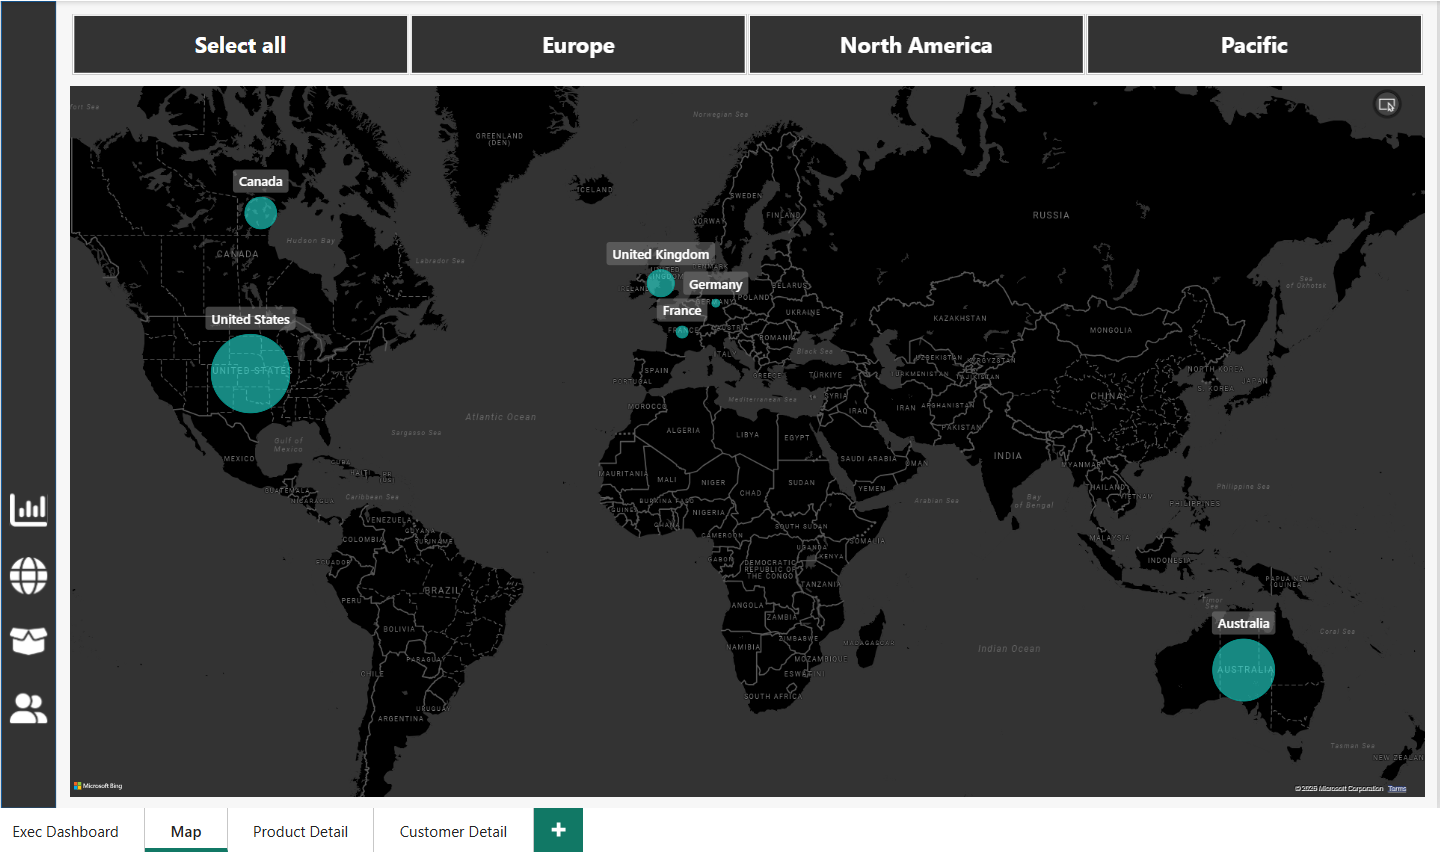

Layout of this report page (visuals, bound fields, positions):
{"tool":"powerbi","page":{"name":"Map","canvas":[1920,1080],"ordinal":1},"visuals":[{"type":"shape","title":"Left Nav Pannel","box":[0,0,74,1080],"z":0},{"type":"actionButton","box":[0,641.3,74.5,78.3],"z":0,"group":"g1"},{"type":"map","fields":{"Category":["Territory Lookup.Country"],"Size":[" Measures_Table.Total Orders"]},"box":[75.6,100.1,1844.2,980.7],"z":1000},{"type":"actionButton","box":[0,817.5,74.5,78.3],"z":1000,"group":"g1"},{"type":"slicer","fields":{"Values":["Territory Lookup.Continent"]},"box":[73.7,15.1,1846.1,85],"z":2000},{"type":"actionButton","box":[0,729.4,74.5,78.3],"z":2000,"group":"g1"},{"type":"group","id":"g1","title":"Page Navigations","box":[0,641.3,74.5,342.6],"z":3000},{"type":"actionButton","box":[0,905.6,74.5,78.3],"z":3000,"group":"g1"}]}

Visuals, with their boxes in screenshot pixels (x1, y1, x2, y2):
"Left Nav Pannel" shape: [x1=0, y1=0, x2=55, y2=795]
actionButton: [x1=0, y1=471, x2=55, y2=528]
map - Territory Lookup.Country x  Measures_Table.Total Orders: [x1=56, y1=70, x2=1420, y2=796]
actionButton: [x1=0, y1=601, x2=55, y2=659]
slicer - Territory Lookup.Continent: [x1=55, y1=7, x2=1420, y2=70]
actionButton: [x1=0, y1=536, x2=55, y2=594]
"Page Navigations" group: [x1=0, y1=471, x2=55, y2=724]
actionButton: [x1=0, y1=666, x2=55, y2=724]
